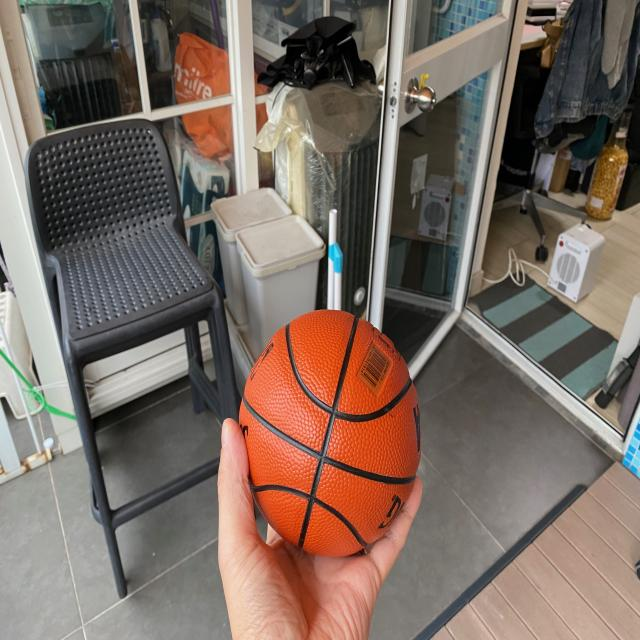Ball: (214, 282, 443, 580)
